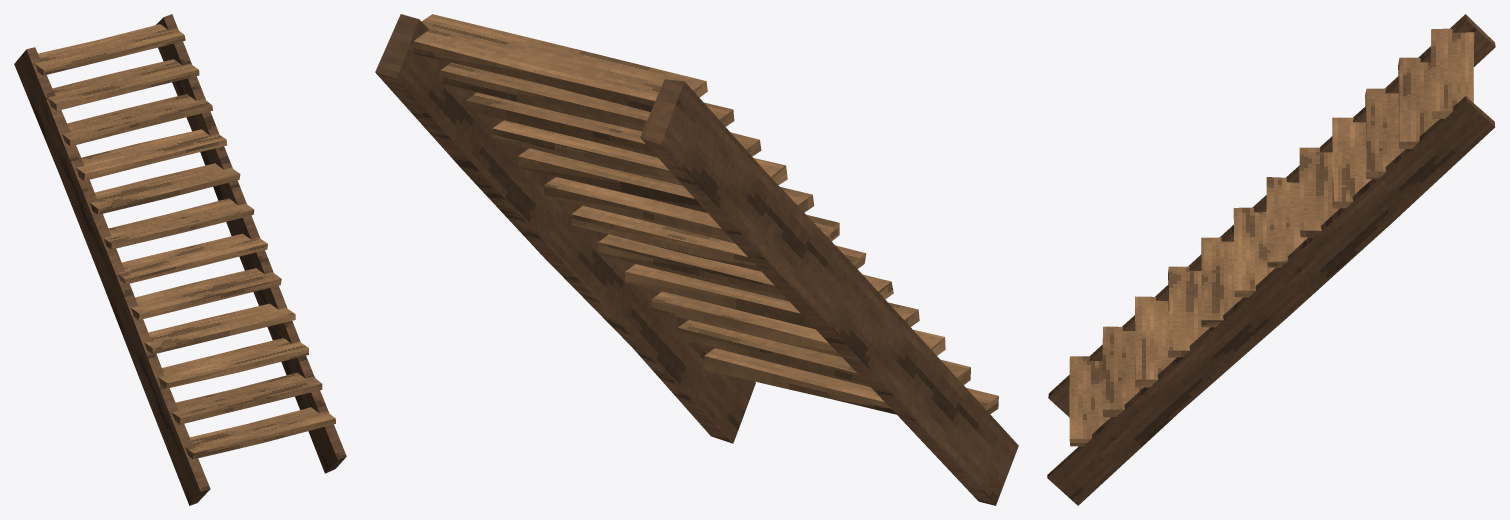
The model's file is escada.glb.
The picture shows the model from 3 angles, left to right: view 1: azimuth 30°, elevation 25°; view 2: azimuth 150°, elevation 25°; view 3: azimuth 270°, elevation 25°; orthographic projection. The views are drawn at different scales.
Visible parts, largest first — view 1: escada_madeira, escada_madeira_escura; view 2: escada_madeira_escura, escada_madeira; view 3: escada_madeira, escada_madeira_escura.
Boxes of the visible parts, x1=… form: escada_madeira: x1=34, y1=24, x2=335, y2=459; escada_madeira_escura: x1=14, y1=14, x2=346, y2=505; escada_madeira_escura: x1=375, y1=14, x2=1018, y2=505; escada_madeira: x1=413, y1=14, x2=998, y2=414; escada_madeira: x1=1069, y1=28, x2=1474, y2=446; escada_madeira_escura: x1=1047, y1=14, x2=1495, y2=505.
Bounding box in the file's own units: 1.56 × 3.42 × 3.41.
2 materials, 2 textured.
